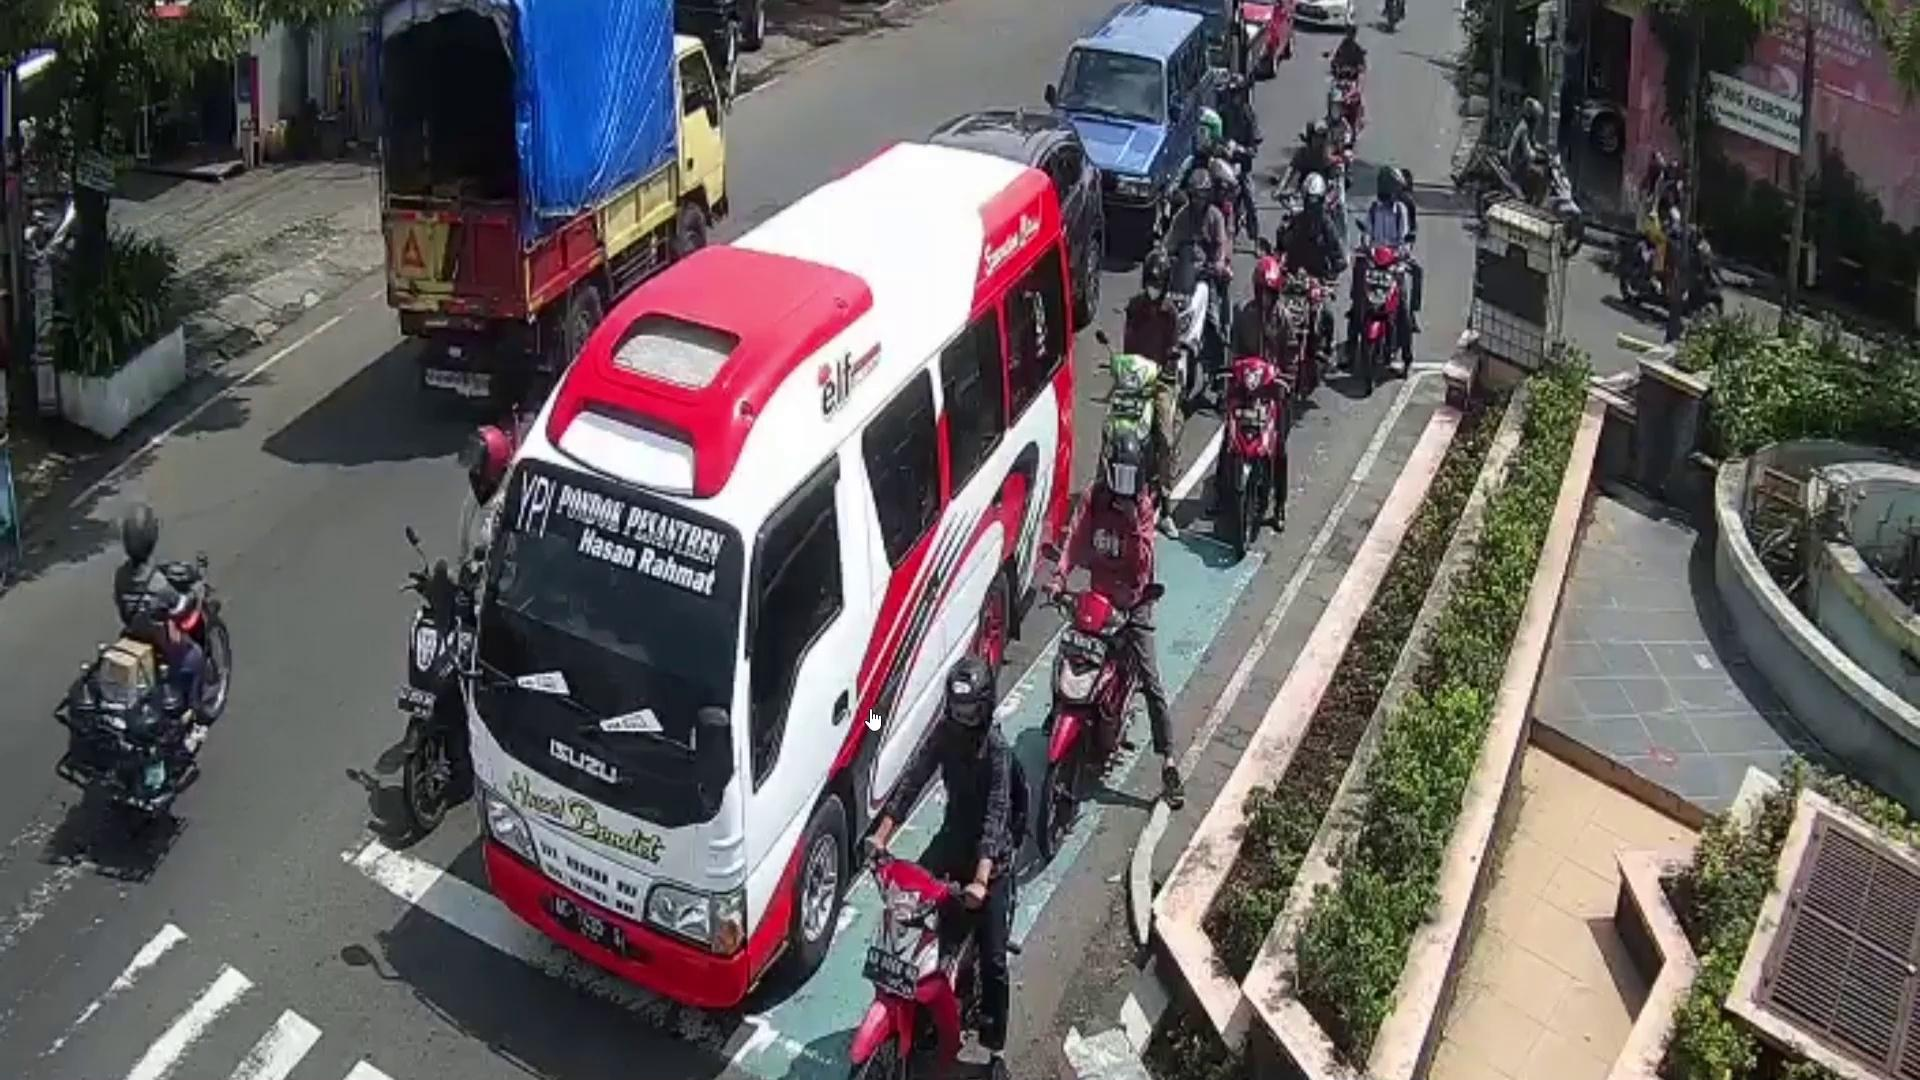bus: (471, 138, 1073, 1002)
car: (1052, 0, 1221, 244), (938, 105, 1110, 310), (1220, 0, 1298, 83)
motorbike: (856, 847, 997, 1080), (84, 562, 232, 727), (1047, 585, 1138, 848), (401, 580, 477, 829), (1089, 353, 1170, 526), (1480, 141, 1586, 244), (1614, 219, 1725, 318), (1228, 365, 1280, 555), (1360, 247, 1407, 388), (1324, 63, 1371, 150)
truck: (363, 0, 731, 361)
